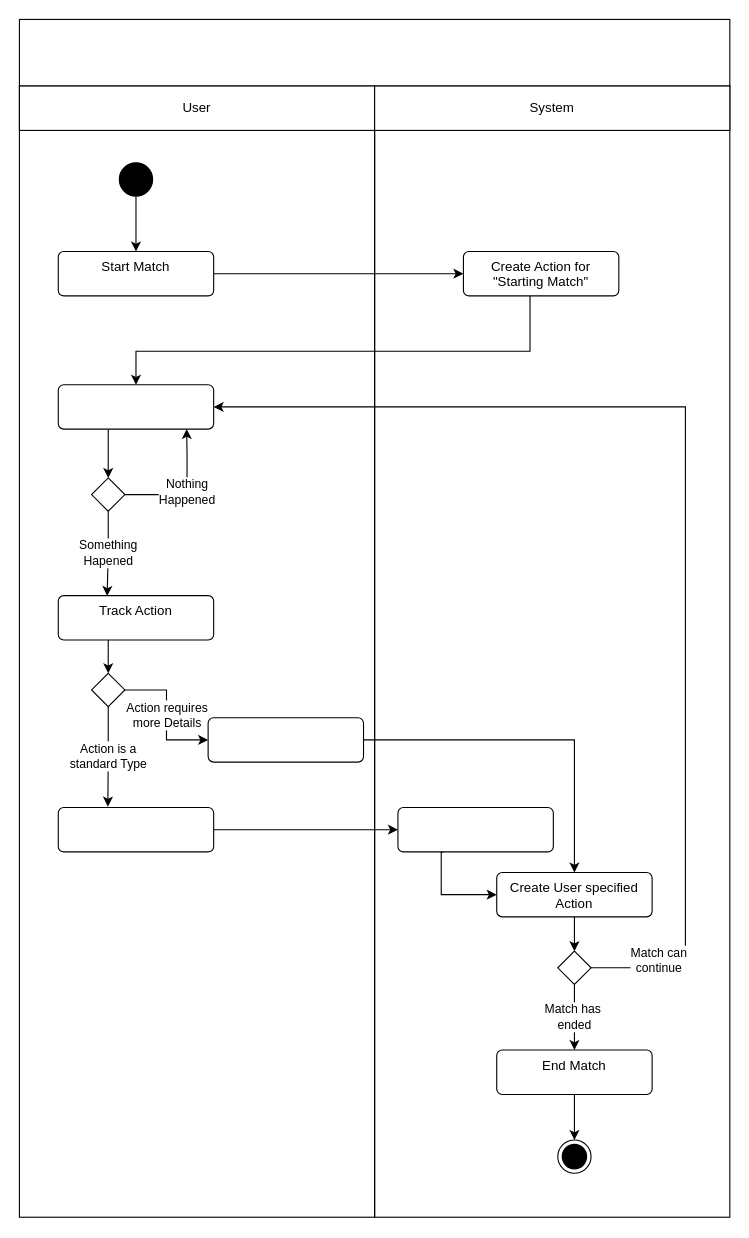
Image size: 749x1238. Some labels were removed from this diagram. Each missing label, with the box of its shape:
Add defult Description: (397, 806, 553, 852)
Add Description to Action: (207, 717, 364, 762)
Match Tracking: (18, 18, 730, 86)
Select Action Type: (57, 806, 214, 852)
Wait for some action in the Match: (57, 384, 214, 429)
